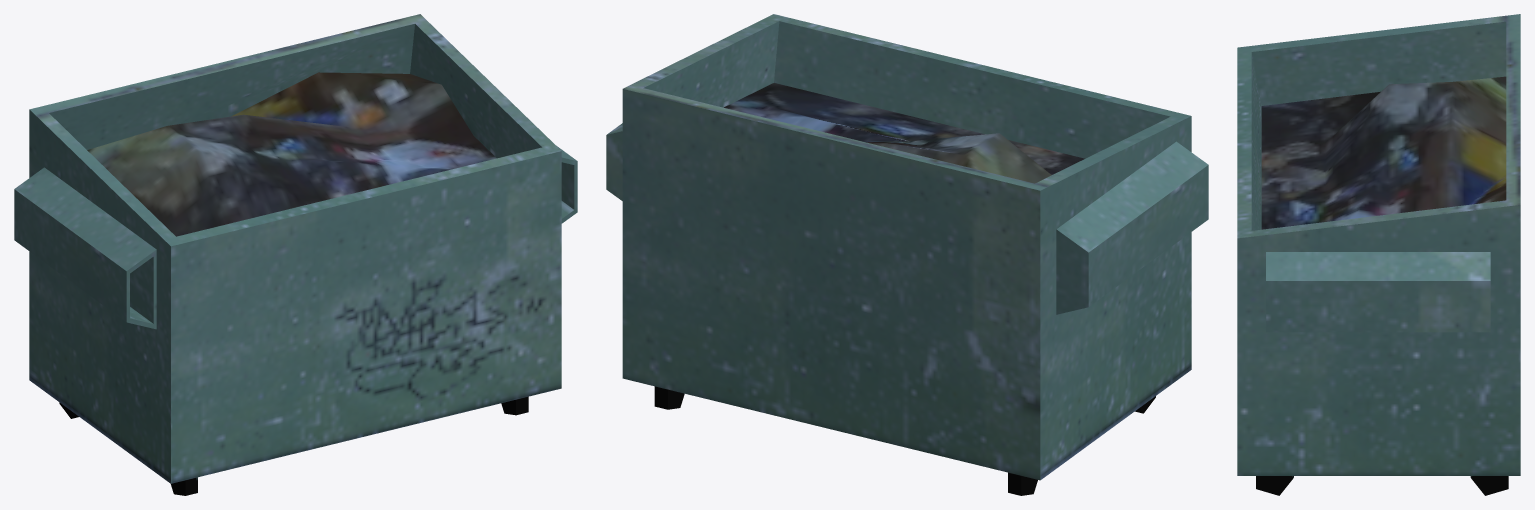
Rendered from Dumpster.glb.
3 renders of one model, left to right at view 1: azimuth 30°, elevation 25°; view 2: azimuth 150°, elevation 25°; view 3: azimuth 270°, elevation 25°, orthographic. The views are drawn at different scales.
Visible parts, largest first — view 1: Dumpster; view 2: Dumpster; view 3: Dumpster.
Boxes of the visible parts, bbox=[...] form: Dumpster: bbox=[14, 14, 577, 495]; Dumpster: bbox=[606, 14, 1208, 495]; Dumpster: bbox=[1237, 14, 1520, 495].
Bounding box in the file's own units: 2.98 × 1.91 × 1.62.
1 material, 1 textured.
